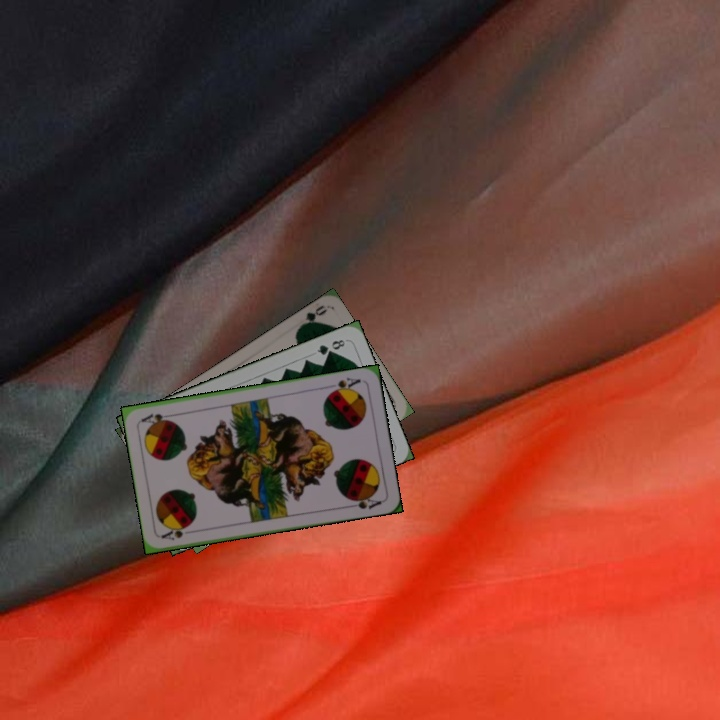G8: (313, 335, 348, 358)
GO: (293, 301, 329, 333)
SA: (325, 374, 363, 396), (157, 522, 192, 543)
